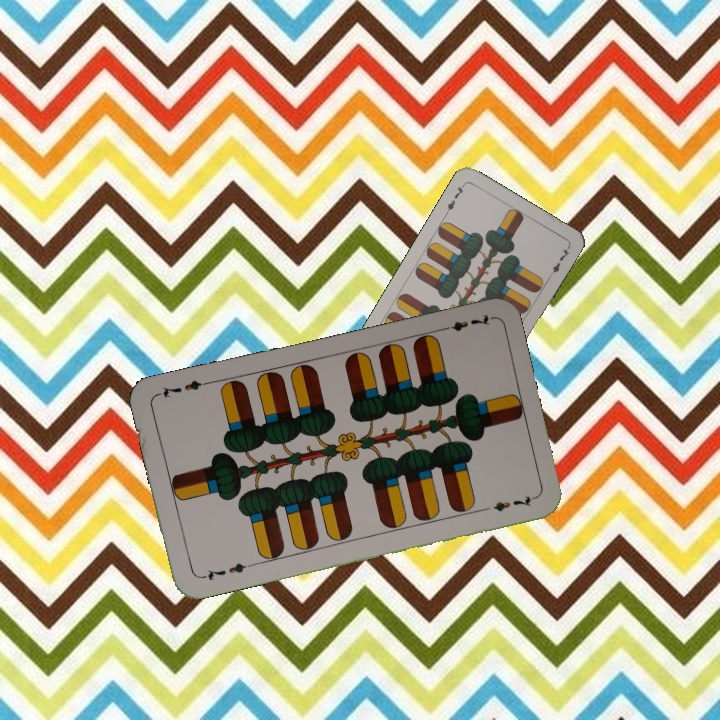E7: (196, 558, 254, 583), (436, 310, 494, 334), (441, 179, 468, 216)
